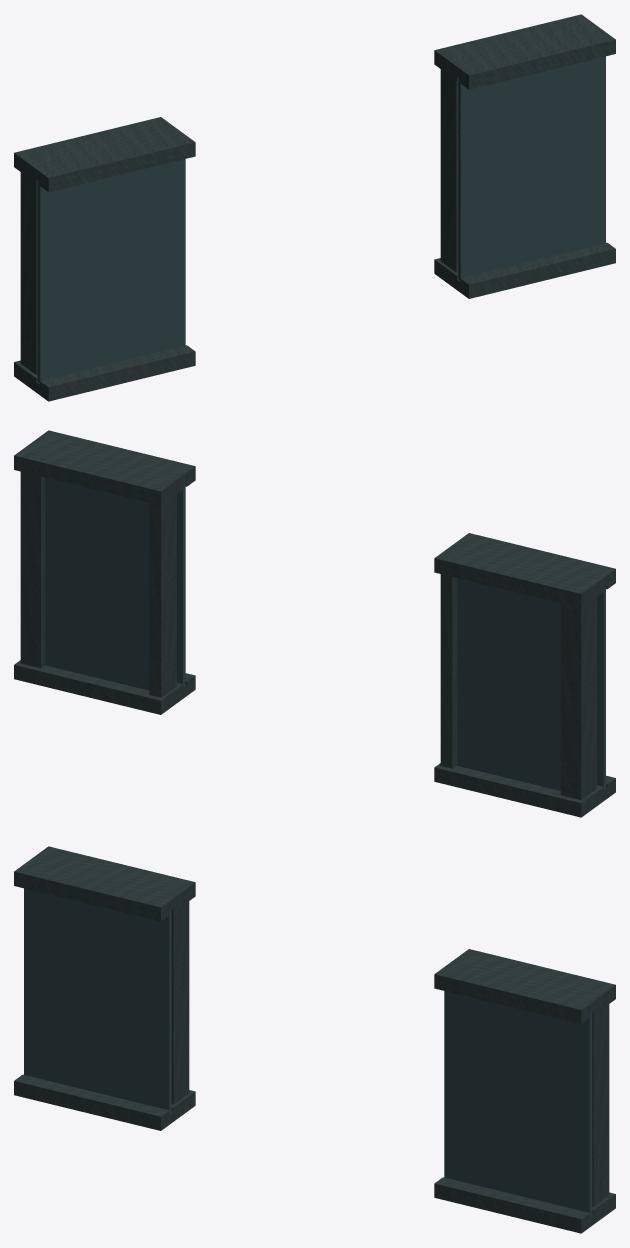
3 renders of one model, top to bottom at view 1: azimuth 30°, elevation 25°; view 2: azimuth 150°, elevation 25°; view 3: azimuth 330°, elevation 25°, orthographic.
Parts seen in each view (by area): view 1: B024-01_moving_slide-1_glass, B024-01_moving_slide1_glass, B024-01_frame_iron, B024-01_support_iron; view 2: B024-01_fixed_screen_glass, B024-01_frame_iron, B024-01_support_iron, B024-01_moving_slide1_glass, B024-01_moving_slide-1_glass; view 3: B024-01_moving_slide1_glass, B024-01_moving_slide-1_glass, B024-01_frame_iron, B024-01_support_iron.
Part boxes in pixels (<box>): B024-01_moving_slide-1_glass: <box>37,159,185,383</box>; B024-01_moving_slide1_glass: <box>458,56,605,280</box>; B024-01_frame_iron: <box>14,14,615,401</box>; B024-01_support_iron: <box>20,17,595,374</box>; B024-01_fixed_screen_glass: <box>45,477,560,790</box>; B024-01_frame_iron: <box>14,430,615,817</box>; B024-01_support_iron: <box>20,444,596,799</box>; B024-01_moving_slide1_glass: <box>177,484,185,686</box>; B024-01_moving_slide-1_glass: <box>597,587,605,789</box>; B024-01_moving_slide1_glass: <box>444,991,592,1215</box>; B024-01_moving_slide-1_glass: <box>24,888,171,1112</box>; B024-01_frame_iron: <box>14,846,615,1233</box>; B024-01_support_iron: <box>34,849,609,1206</box>.
Size of the model in its own units: 3.32 by 1.25 by 0.35.
Materials: 3 (3 with a texture image).
